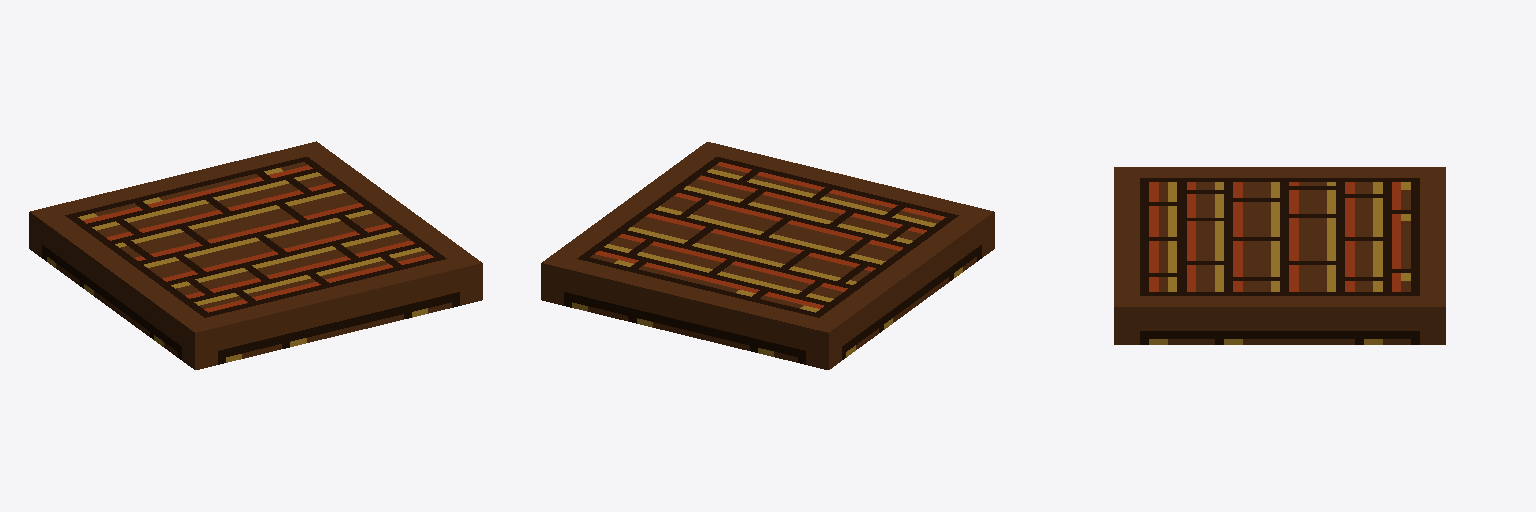
The picture shows the model from 3 angles: view 1: azimuth 30°, elevation 25°; view 2: azimuth 150°, elevation 25°; view 3: azimuth 270°, elevation 25°; orthographic projection.
Visible parts, largest first — view 1: Default; view 2: Default; view 3: Default.
Part boxes in pixels (x1,y1,x2,y2): Default: (29,141,482,369); Default: (541,142,994,369); Default: (1114,167,1445,344).
Size of the model in its own units: 1 by 0.125 by 1.
Materials: 1 (1 with a texture image).